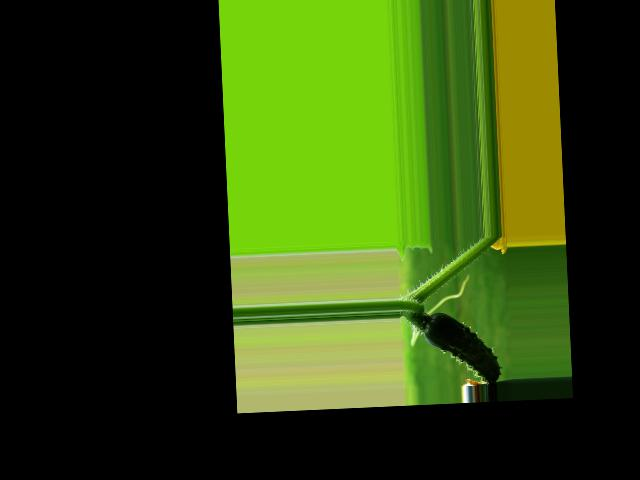cucumber: (423, 308, 501, 385)
